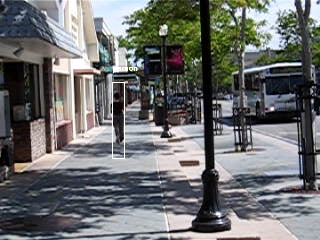person: (111, 93, 128, 144), (110, 93, 127, 144), (112, 93, 129, 144), (111, 92, 128, 143), (111, 94, 128, 145)
target_negative: (109, 33, 319, 84), (179, 9, 222, 240), (153, 137, 275, 172), (281, 99, 302, 238), (239, 173, 320, 207), (45, 112, 110, 147)
